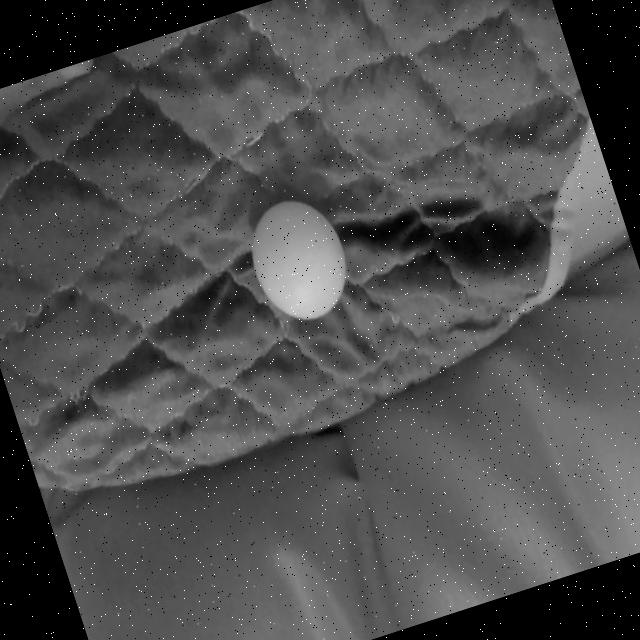ping-pong-ball: (237, 189, 358, 330)
